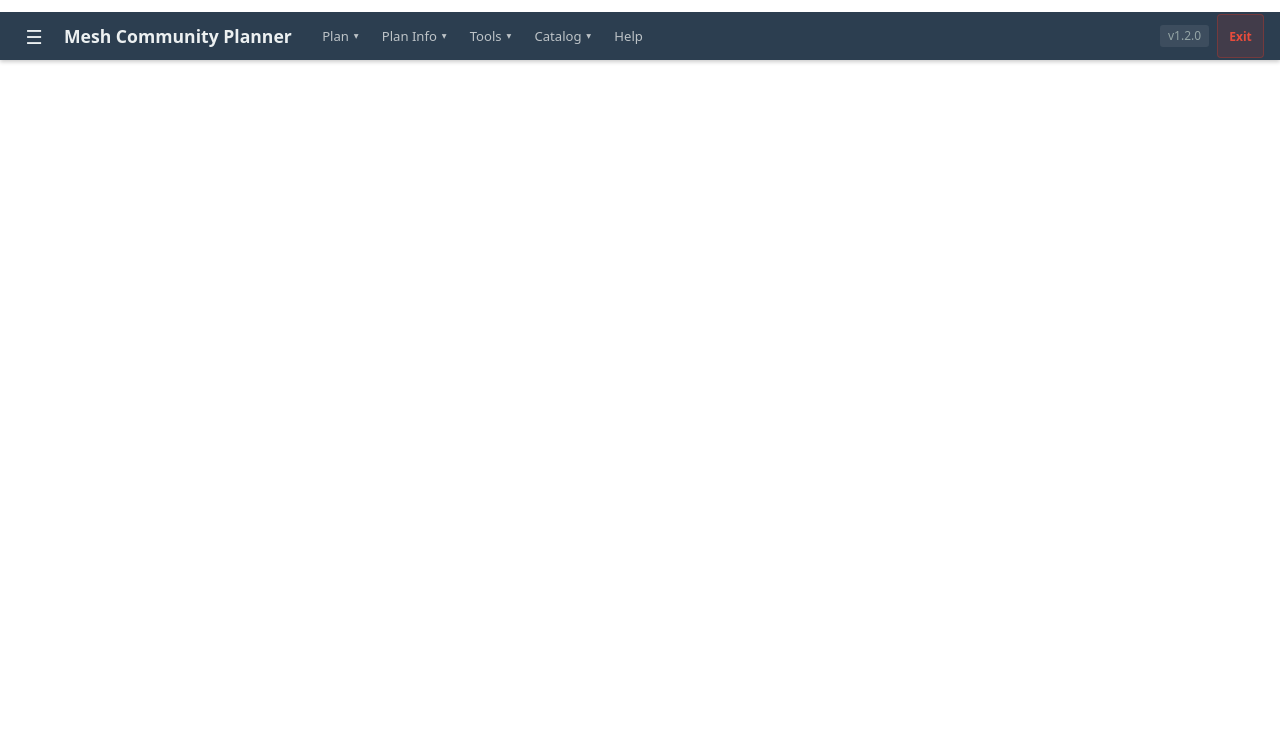
Test: Toolbar — More Tools modal › "More Tools…" item is present in Tools dropdown
Step 1. Click the button "Tools ▾" → (490, 36), box top-left (459, 14), bottom-right (522, 58)
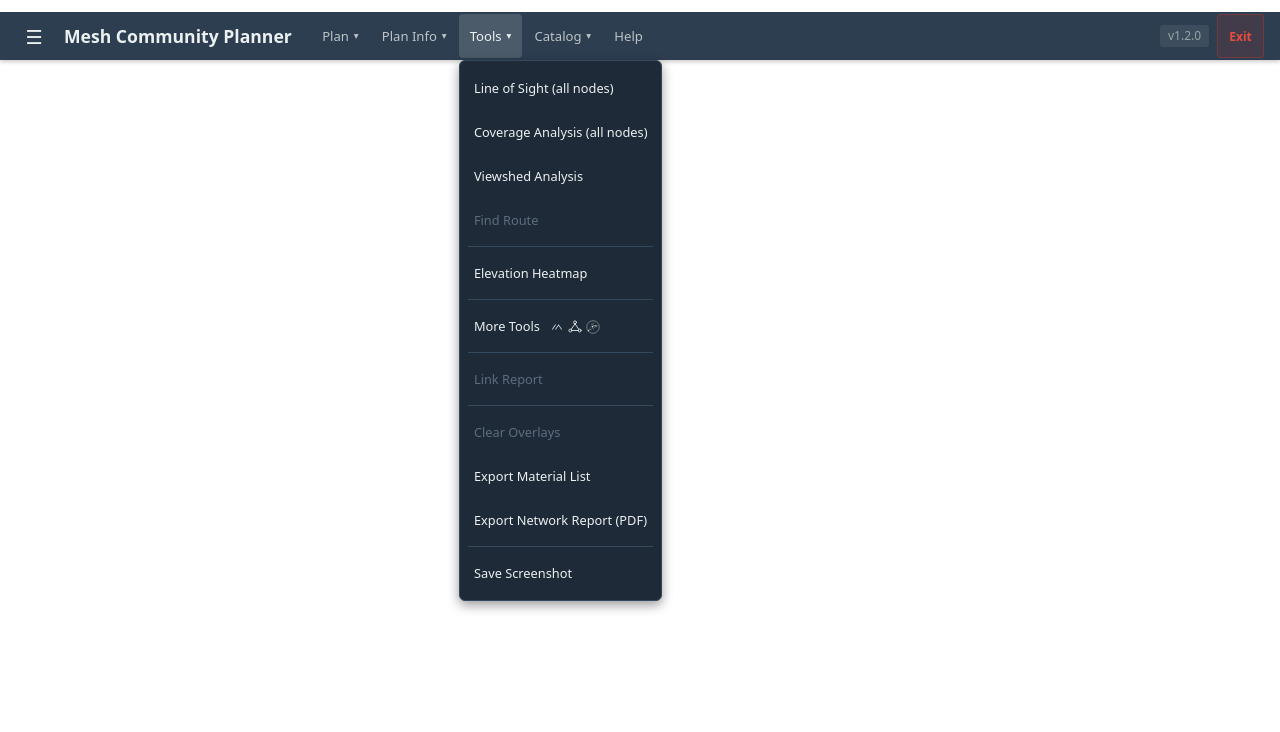
Now the button "More Tools" is shown, box top-left (460, 304), bottom-right (661, 348)
